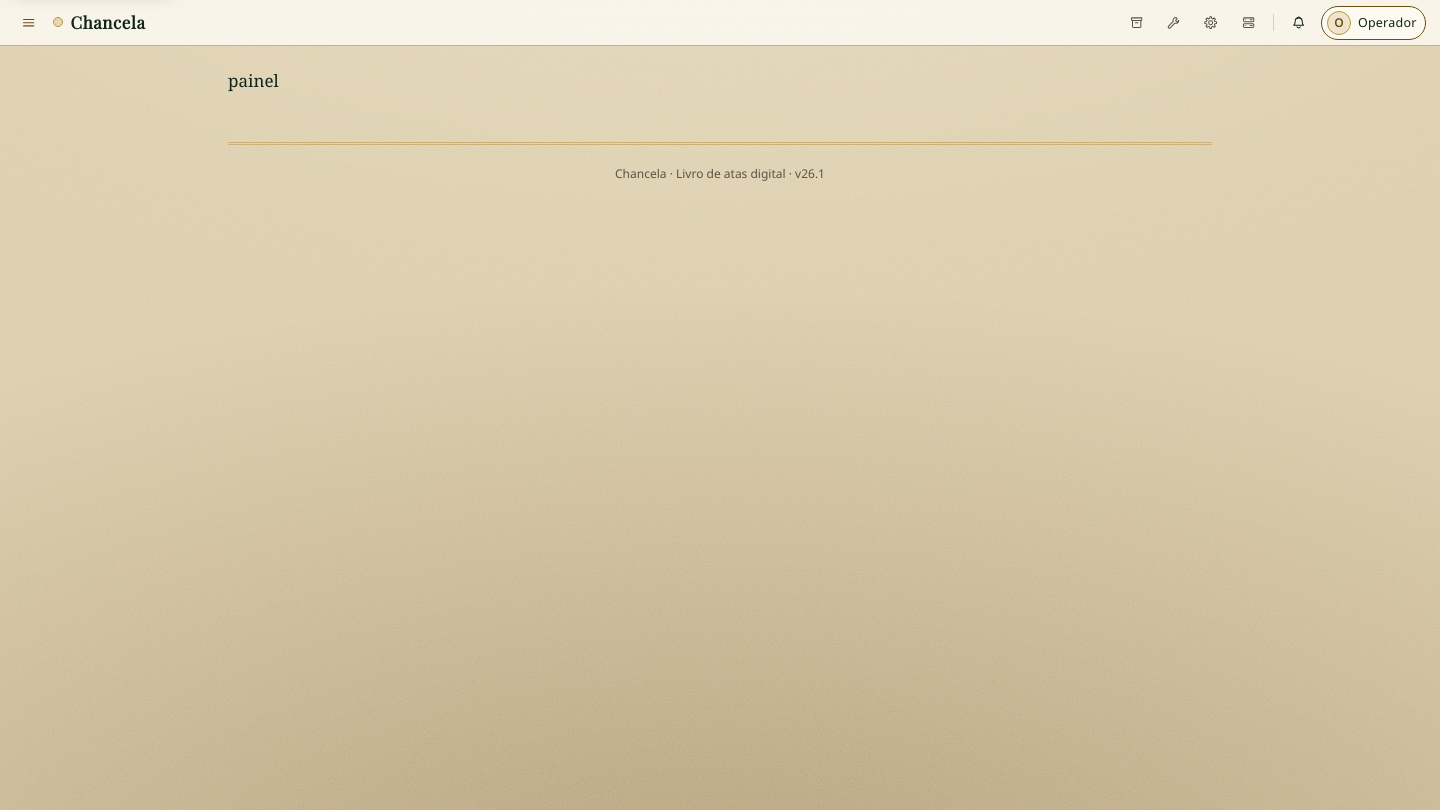
Top bar — medium tier (tabs collapse to a burger) › opens the burger to the primary tabs, each a single link
Expected: the text "painel" is shown, [228,69,279,92]
Click the button with test id "topbar-tabs-menu" at (29, 22), box [14,7,44,38]
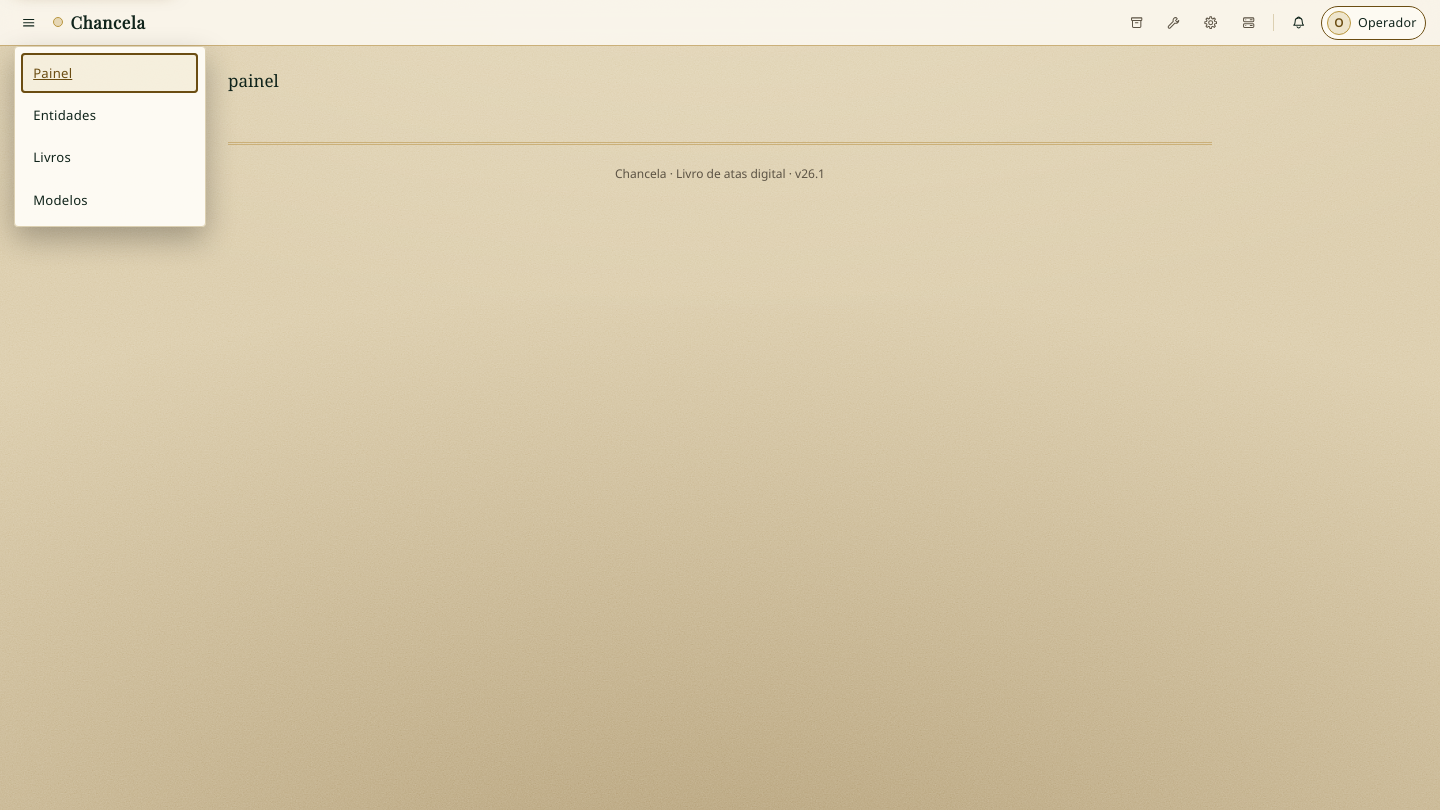
Expected: the button with test id "topbar-tabs-menu" is expanded, [14,7,44,38]
Expected: the number of menu items "Painel" is 1, [21,53,198,93]
Expected: the number of menu items "Entidades" is 1, [33,106,96,124]
